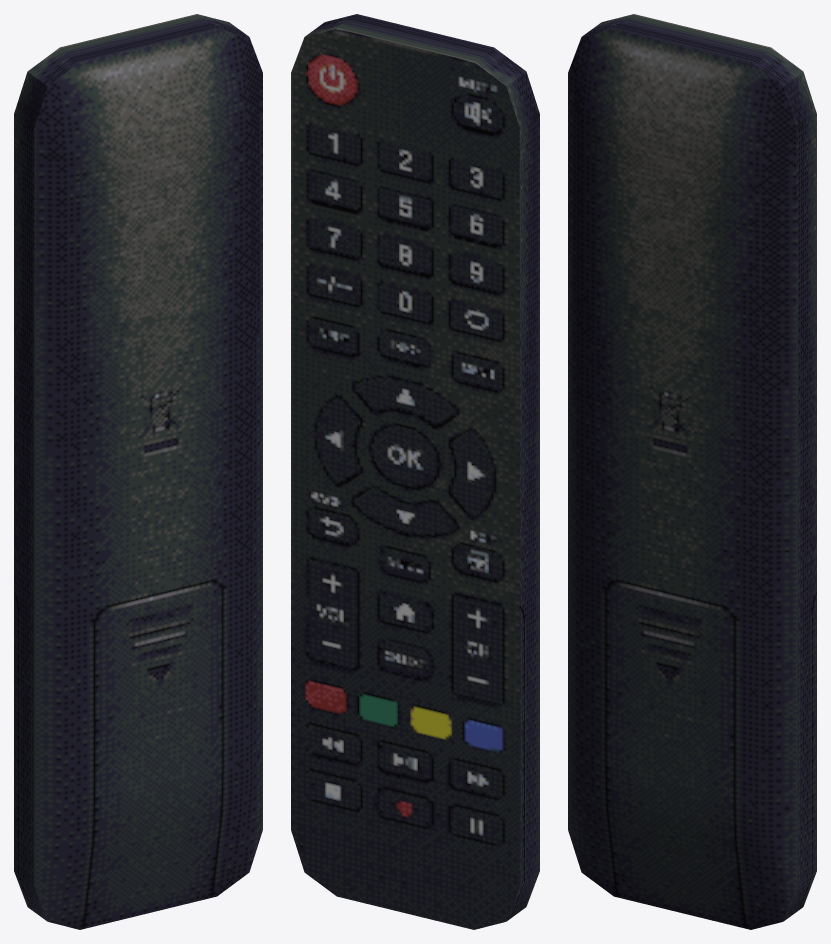
The model's file is psx remoote.fbx.
3 views of the same model, side by side, from view 1: azimuth 30°, elevation 25°; view 2: azimuth 150°, elevation 25°; view 3: azimuth 330°, elevation 25° (orthographic).
Parts seen in each view (by area): view 1: tv_remote1; view 2: tv_remote1; view 3: tv_remote1.
Boxes of the visible parts, <box> form: tv_remote1: <box>14,14,262,929</box>; tv_remote1: <box>291,14,539,929</box>; tv_remote1: <box>568,14,816,929</box>.
Size of the model in its own units: 1.43 by 5.17 by 0.3504.
Materials: 1 (1 with a texture image).
